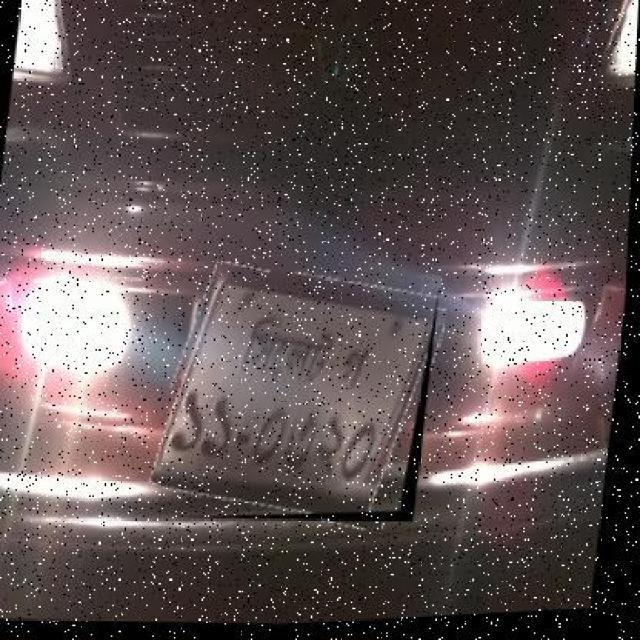cng: (4, 245, 597, 524), (475, 264, 588, 370)
numberplate: (149, 261, 440, 519)
